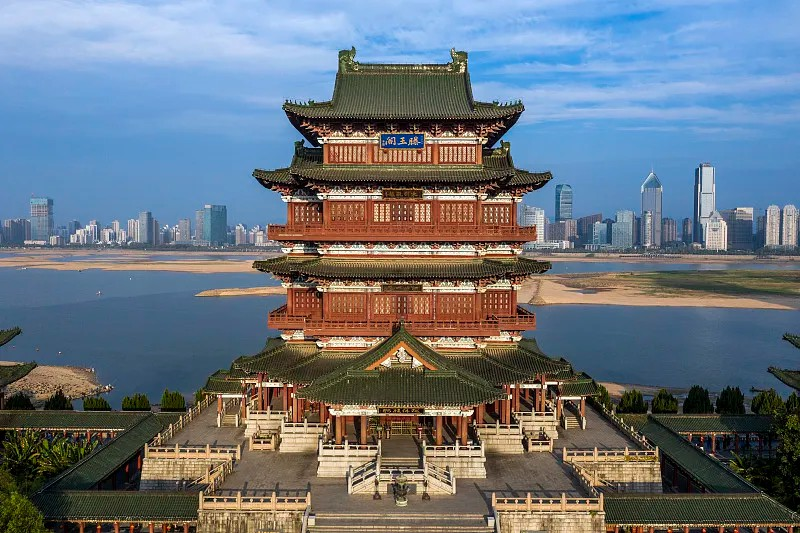Teng: (201, 46, 603, 449)
